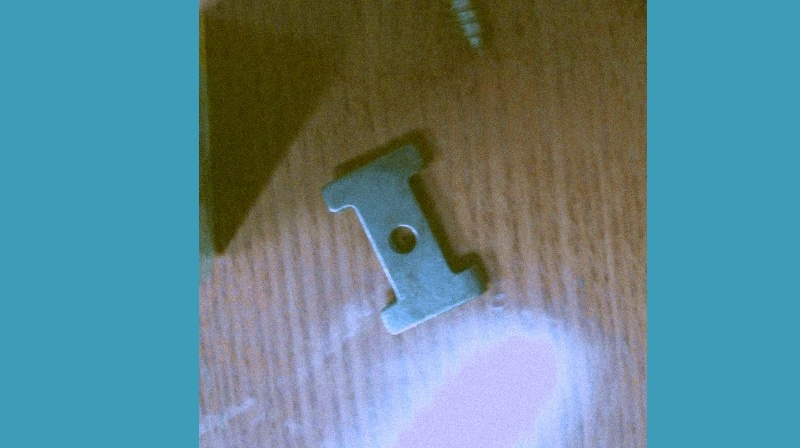O002: (317, 137, 490, 342)
S001: (374, 0, 488, 56)
